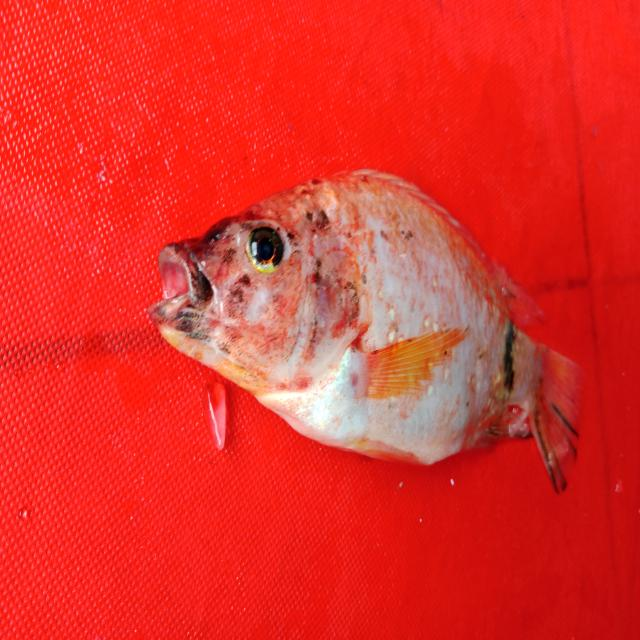ikan: (146, 156, 605, 513)
